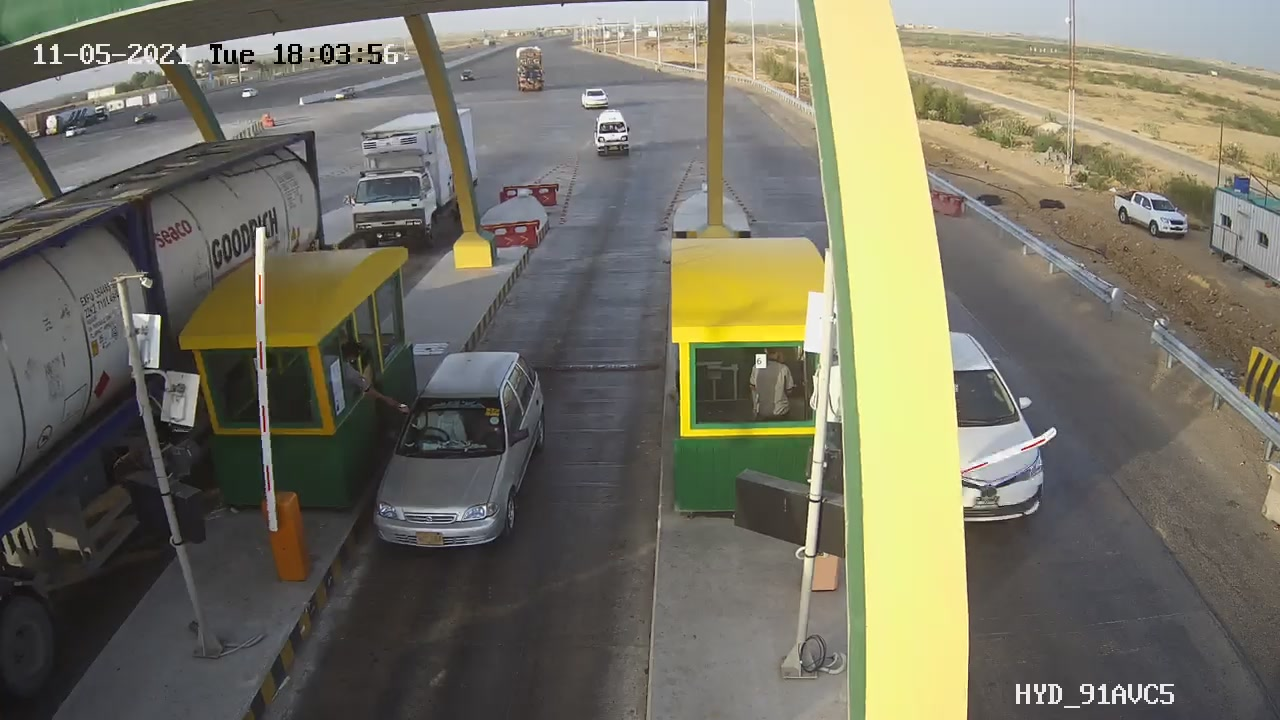F1: (360, 338, 559, 564)
